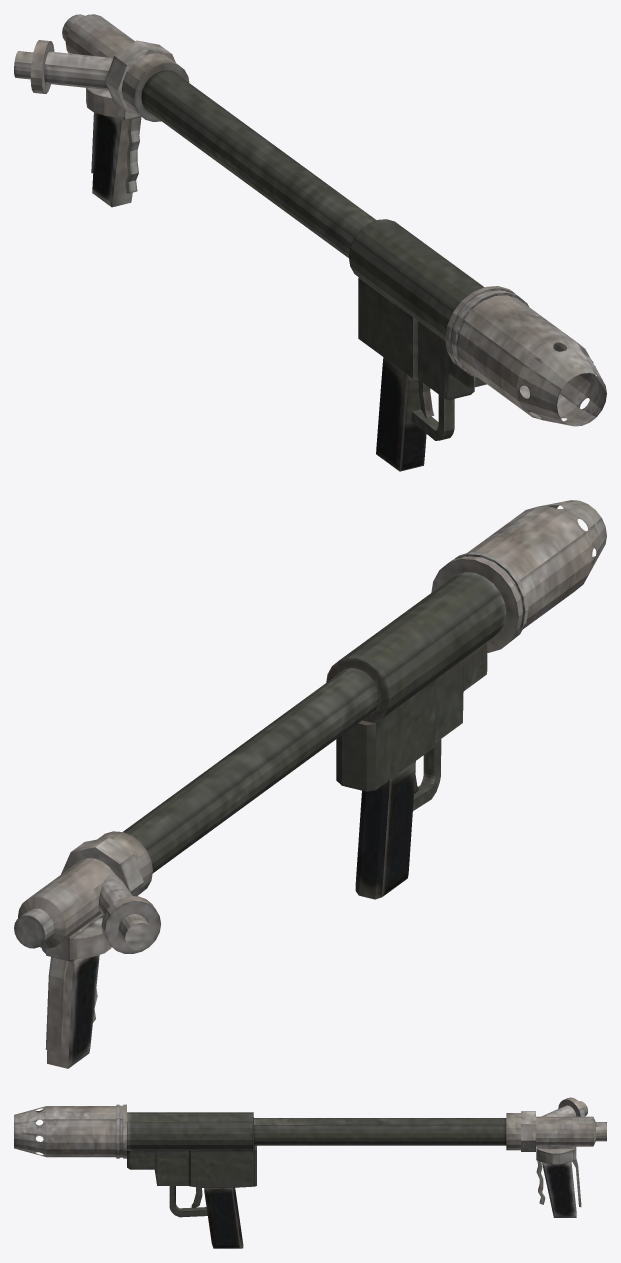
3 views of the same model, one above another, from view 1: azimuth 30°, elevation 25°; view 2: azimuth 150°, elevation 25°; view 3: azimuth 270°, elevation 25° (orthographic). The views are drawn at different scales.
Visible parts, largest first — view 1: VVNOVNDJ4C77KGPWNN0VMFLRS; view 2: VVNOVNDJ4C77KGPWNN0VMFLRS; view 3: VVNOVNDJ4C77KGPWNN0VMFLRS.
Part boxes in pixels (<box>): VVNOVNDJ4C77KGPWNN0VMFLRS: <box>14,14,606,471</box>; VVNOVNDJ4C77KGPWNN0VMFLRS: <box>14,500,606,1068</box>; VVNOVNDJ4C77KGPWNN0VMFLRS: <box>14,1097,606,1248</box>.
Bounding box in the file's own units: 36.71 × 64.85 × 250.
1 material, 1 textured.
